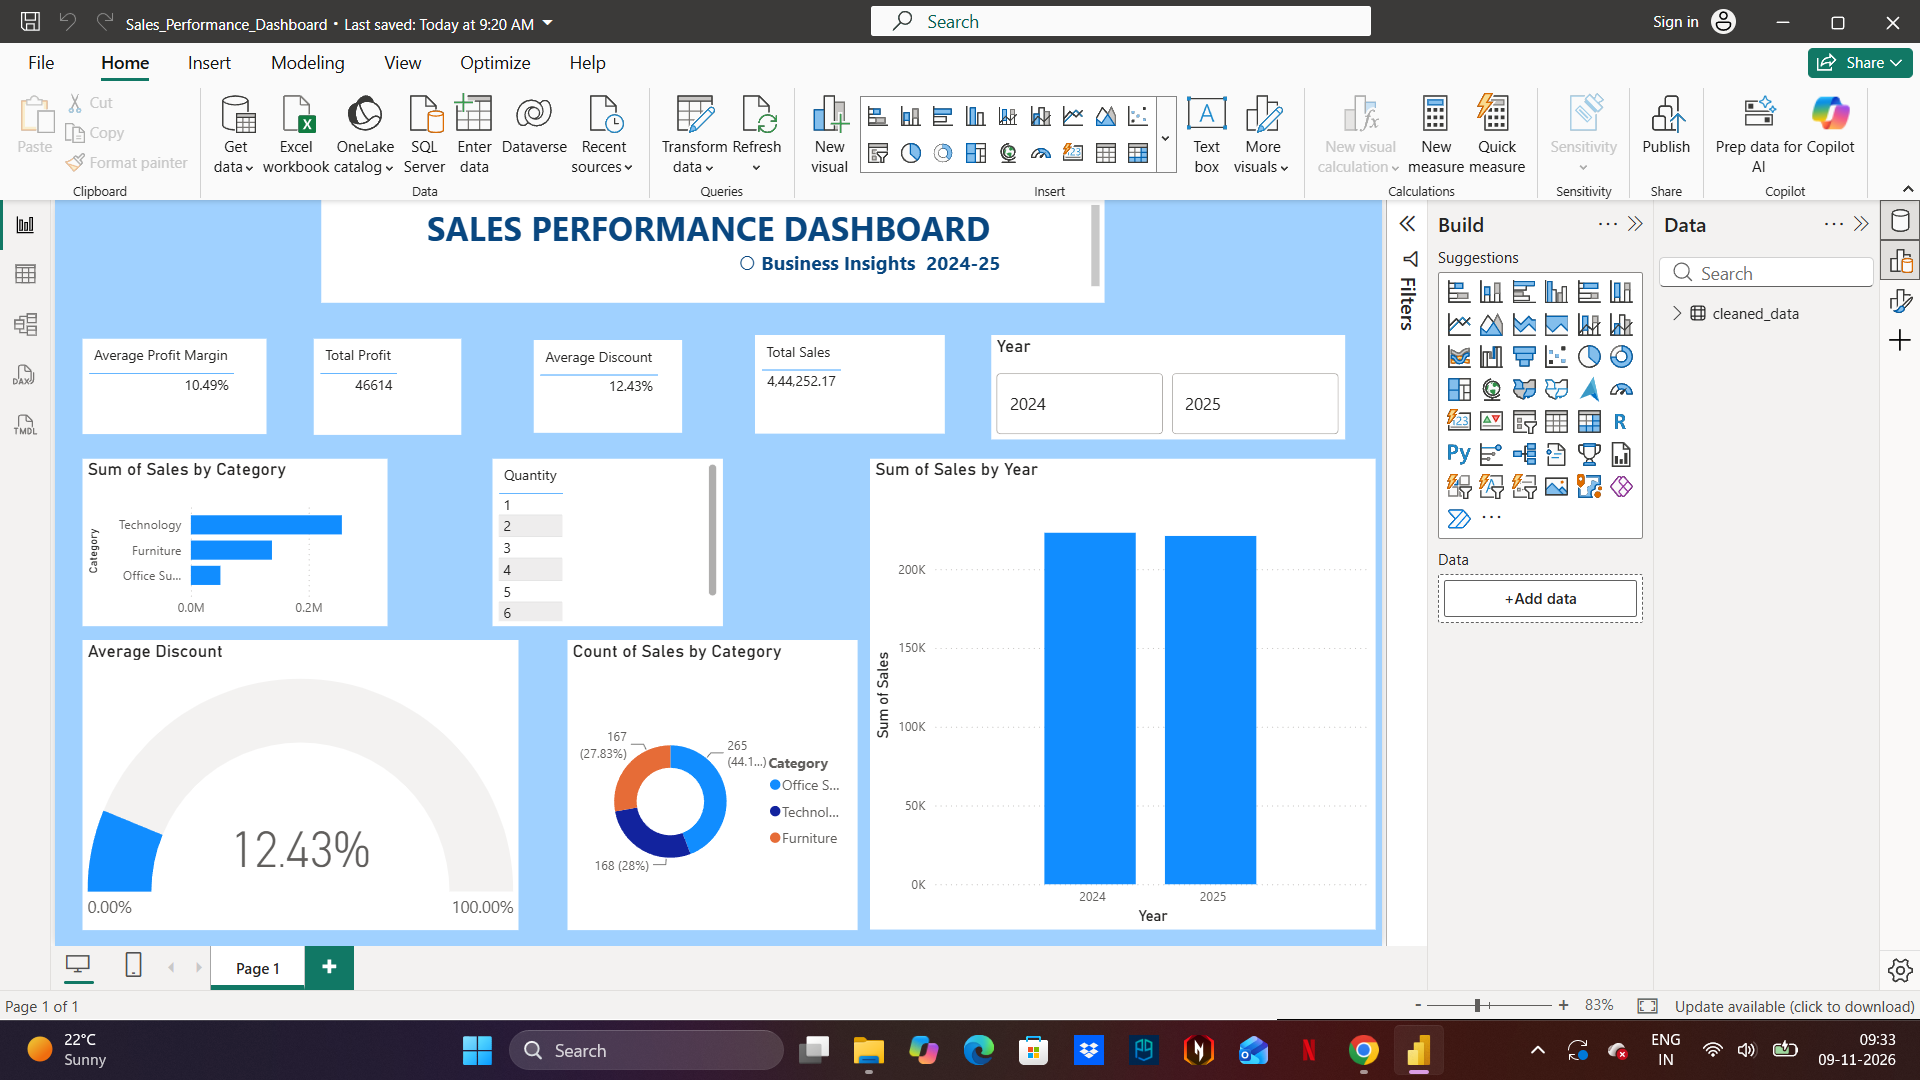

The page's visual inventory and layout, read from the dashboard file:
{"tool":"powerbi","page":{"name":"Page 1","canvas":[1280,720],"ordinal":0},"visuals":[{"type":"donutChart","fields":{"Category":["cleaned_data.Category"],"Y":["CountNonNull(cleaned_data.Sales)"]},"box":[494.9,424.2,280,280],"z":4},{"type":"clusteredColumnChart","fields":{"Category":["cleaned_data.Year"],"Y":["Sum(cleaned_data.Sales)"]},"box":[786.3,249.6,487.7,454.5],"z":6},{"type":"clusteredBarChart","fields":{"Category":["cleaned_data.Category"],"Y":["Sum(cleaned_data.Sales)"]},"box":[26,249.6,294.3,161.6],"z":7},{"type":"tableEx","fields":{"Values":["cleaned_data.Average Discount"]},"box":[461.7,135.6,142.8,89.5],"z":8},{"type":"gauge","fields":{"Y":["cleaned_data.Average Discount"]},"box":[26,424.2,421,280],"z":9},{"type":"advancedSlicerVisual","fields":{"Values":["cleaned_data.Year"]},"box":[903.2,129.8,341.9,101],"z":10},{"type":"tableEx","fields":{"Values":["cleaned_data.Total Profit"]},"box":[249.6,134.2,142.5,92.4],"z":11},{"type":"tableEx","fields":{"Values":["cleaned_data.Quantity"]},"box":[422.7,249.6,222.2,161.6],"z":12},{"type":"tableEx","fields":{"Values":["cleaned_data.Average Profit Margin"]},"box":[26,134.2,177.5,92.3],"z":13},{"type":"tableEx","fields":{"Values":["cleaned_data.Total Sales"]},"box":[675.2,129.8,183.2,95.2],"z":14},{"type":"textbox","box":[256.8,0,756,99.6],"z":15}]}

Visuals, with their boxes on the page's 1280x720 design canvas (x1, y1, x2, y2). These are canvas units, not pixel positions in the 1920x1080 screenshot, which may show the page scaled, cropped or inside an application window:
donutChart - cleaned_data.Category x CountNonNull(cleaned_data.Sales): (495,424,775,704)
clusteredColumnChart - cleaned_data.Year x Sum(cleaned_data.Sales): (786,250,1274,704)
clusteredBarChart - cleaned_data.Category x Sum(cleaned_data.Sales): (26,250,320,411)
tableEx - cleaned_data.Average Discount: (462,136,604,225)
gauge - cleaned_data.Average Discount: (26,424,447,704)
advancedSlicerVisual - cleaned_data.Year: (903,130,1245,231)
tableEx - cleaned_data.Total Profit: (250,134,392,227)
tableEx - cleaned_data.Quantity: (423,250,645,411)
tableEx - cleaned_data.Average Profit Margin: (26,134,204,226)
tableEx - cleaned_data.Total Sales: (675,130,858,225)
textbox: (257,0,1013,100)
